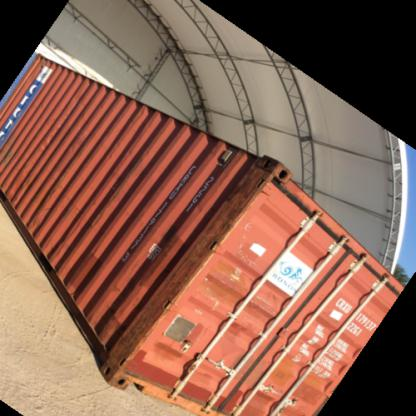Damage: (108, 314, 172, 376), (210, 169, 266, 233), (36, 119, 70, 150), (219, 260, 247, 292), (20, 172, 34, 188)
